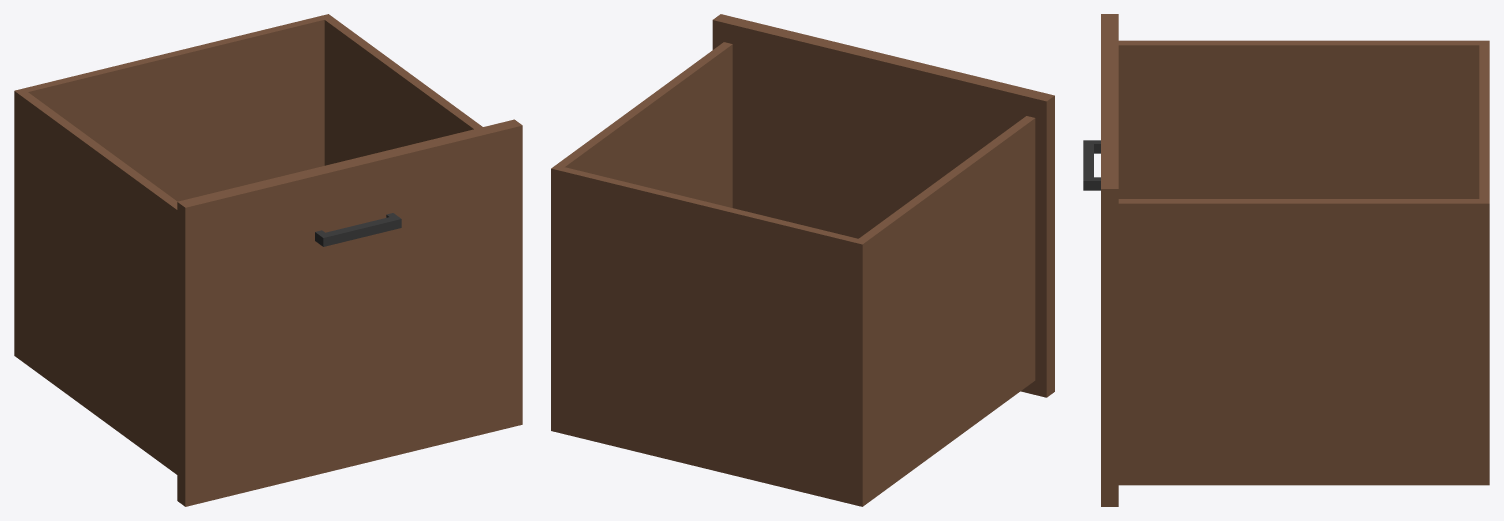
File: Door1_C2_06.fbx
3 renders of one model, left to right at view 1: azimuth 30°, elevation 25°; view 2: azimuth 150°, elevation 25°; view 3: azimuth 270°, elevation 25°, orthographic. The views are drawn at different scales.
Visible parts, largest first — view 1: Door1_C2_06; view 2: Door1_C2_06; view 3: Door1_C2_06.
Boxes of the visible parts, x1,y1,x2,y2 form: Door1_C2_06: (14,14,522,506); Door1_C2_06: (551,14,1054,506); Door1_C2_06: (1083,14,1489,506).
Bounding box in the file's own units: 59 × 50 × 57.89.
